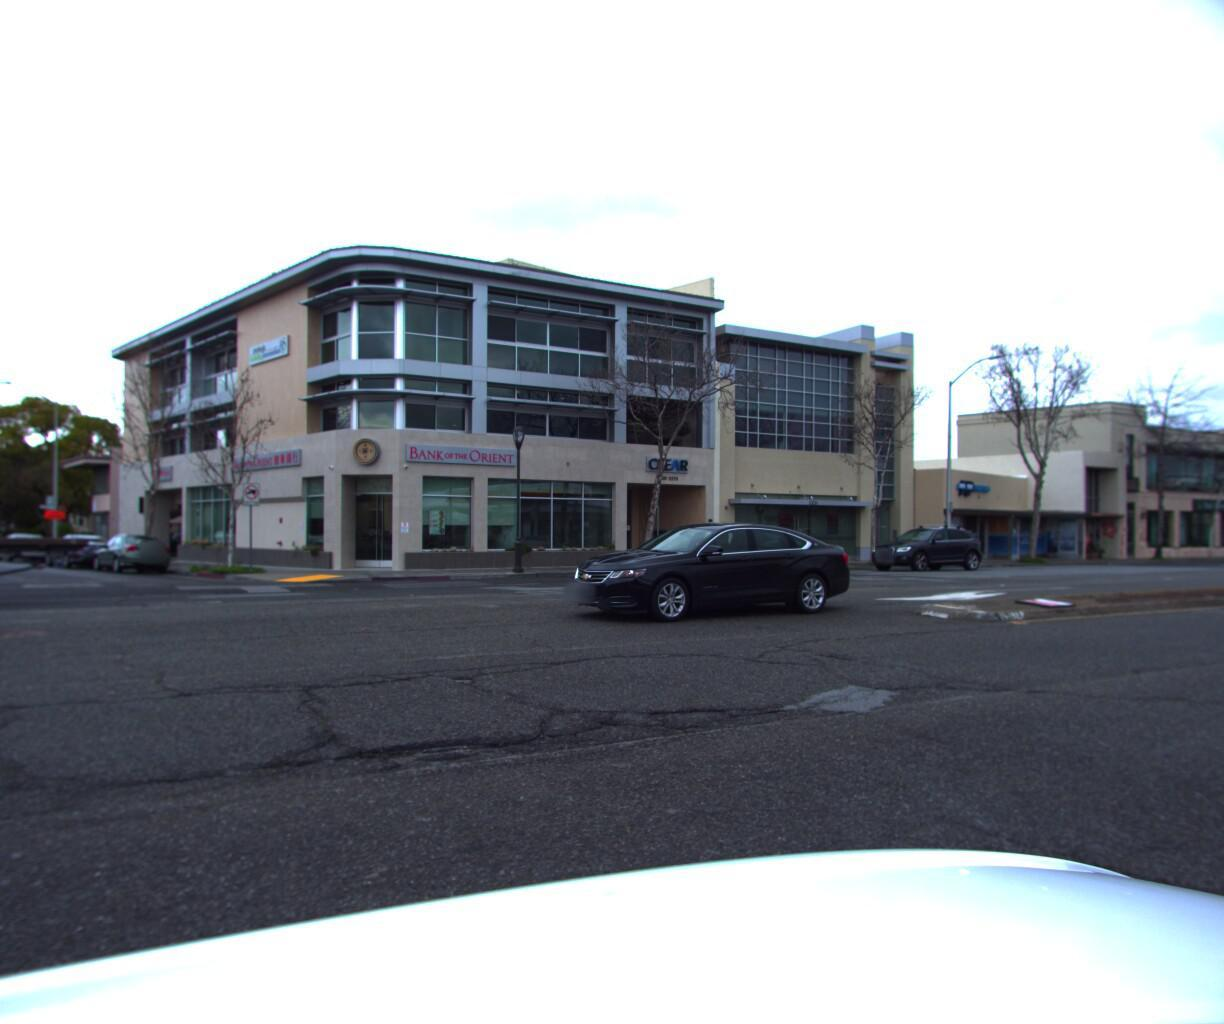car: (544, 526, 867, 636), (863, 527, 992, 581), (90, 539, 183, 580), (44, 539, 128, 575)
